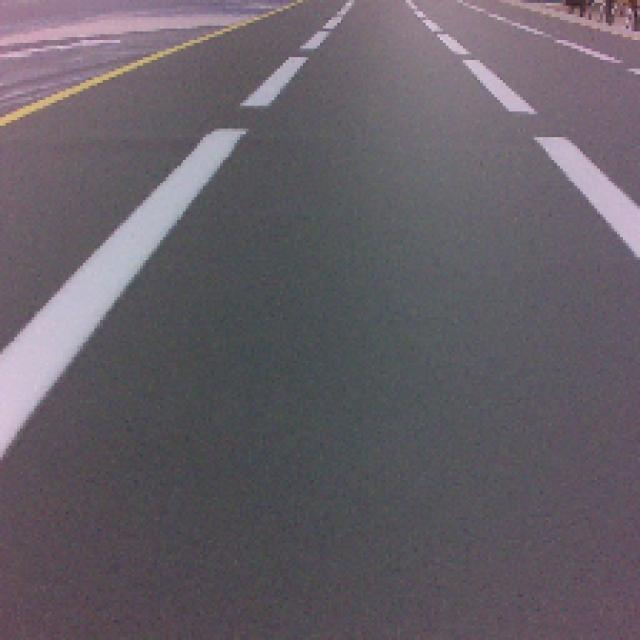Road: (0, 345, 639, 640)
